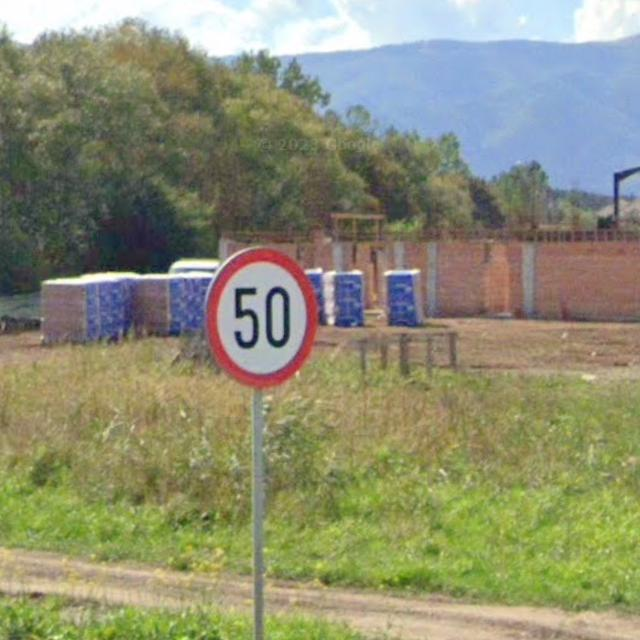forb_speed_over_50: (206, 250, 319, 385)
